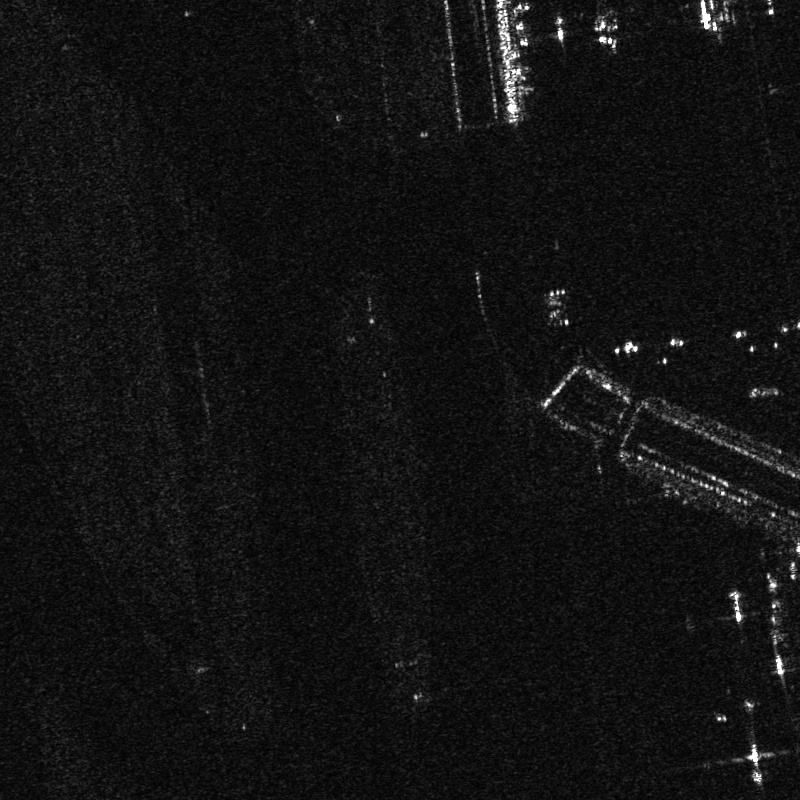A220: (572, 1, 637, 52)
